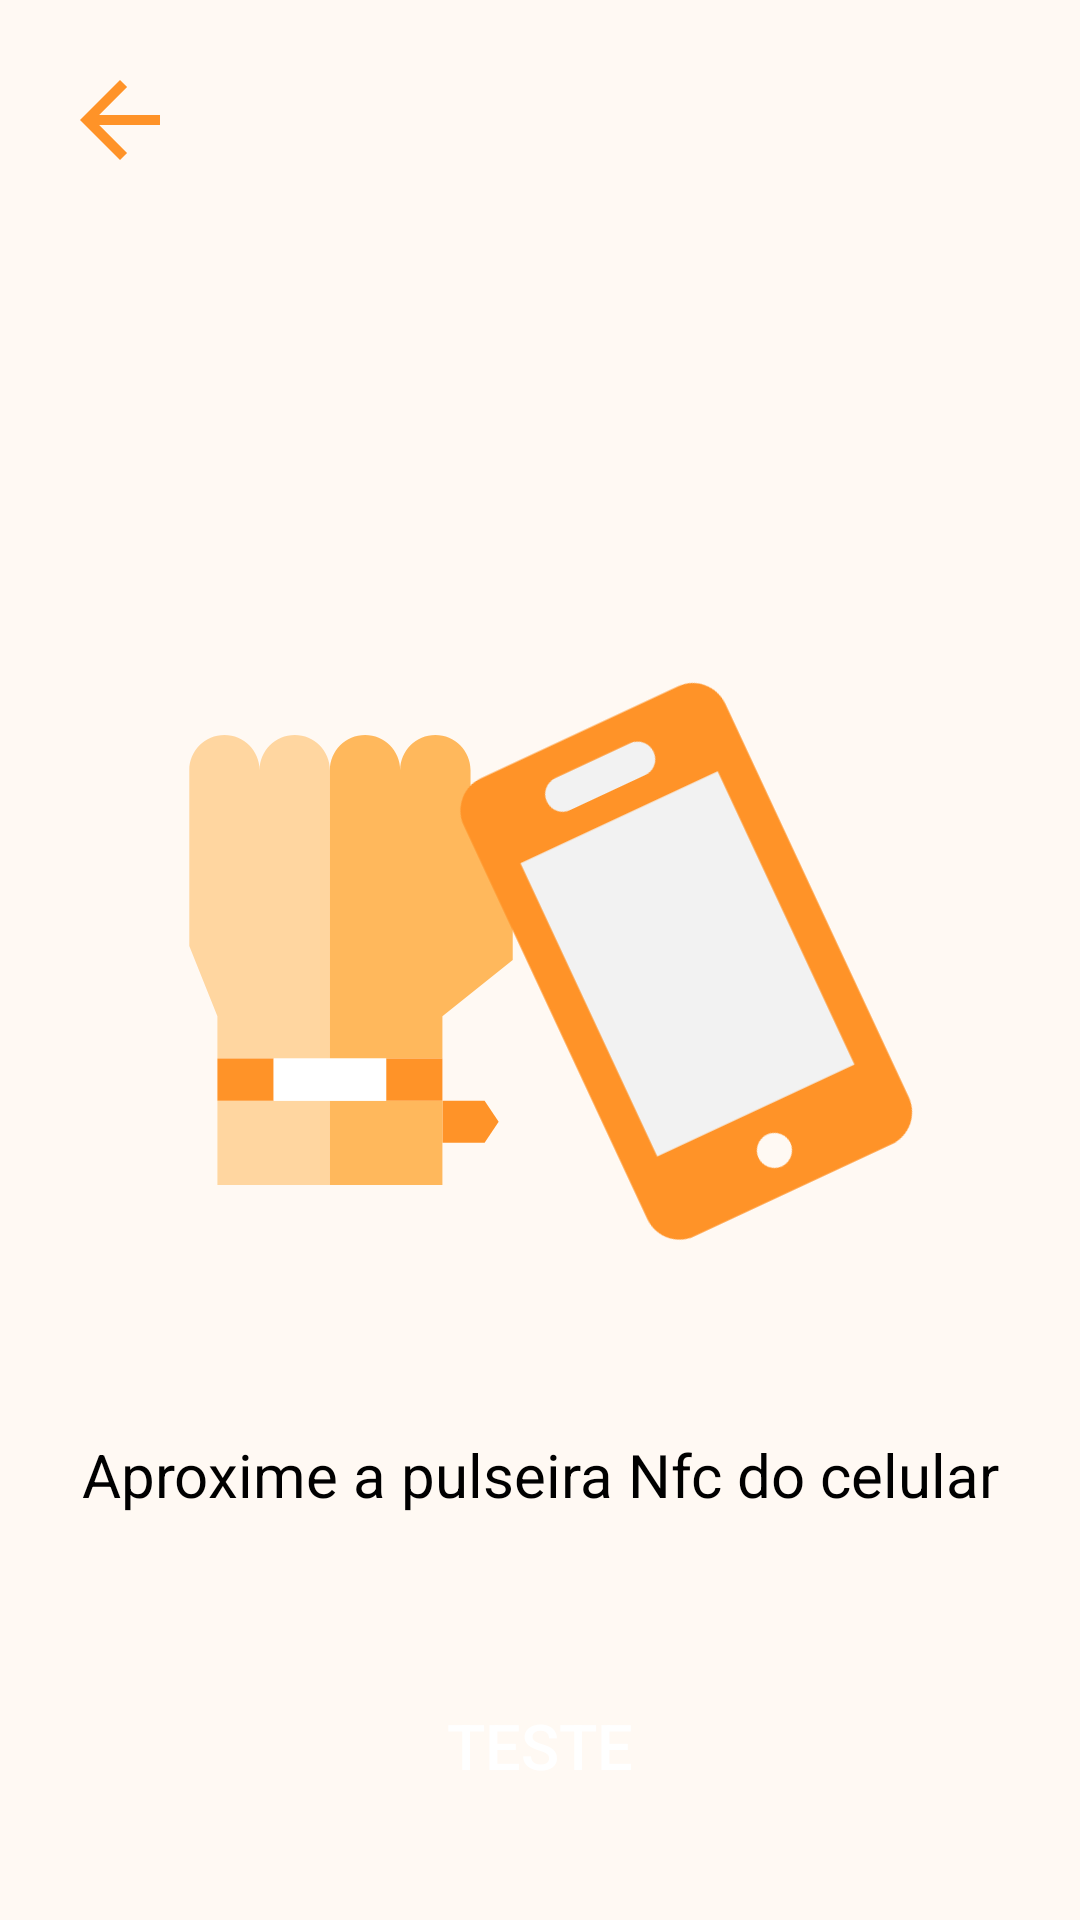

Screen size 1080x1920. Icon name, then its box in pixels as [left=x1, top=y1, right=x2, bottom=y2]:
arrow back: [left=80, top=80, right=160, bottom=160]
